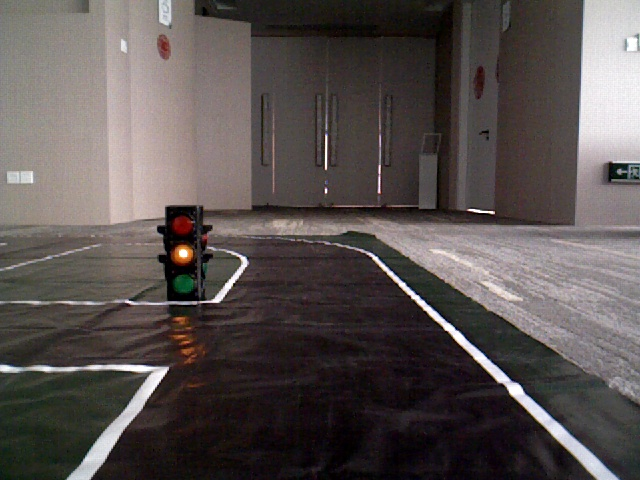yellow: (167, 207, 201, 295)
